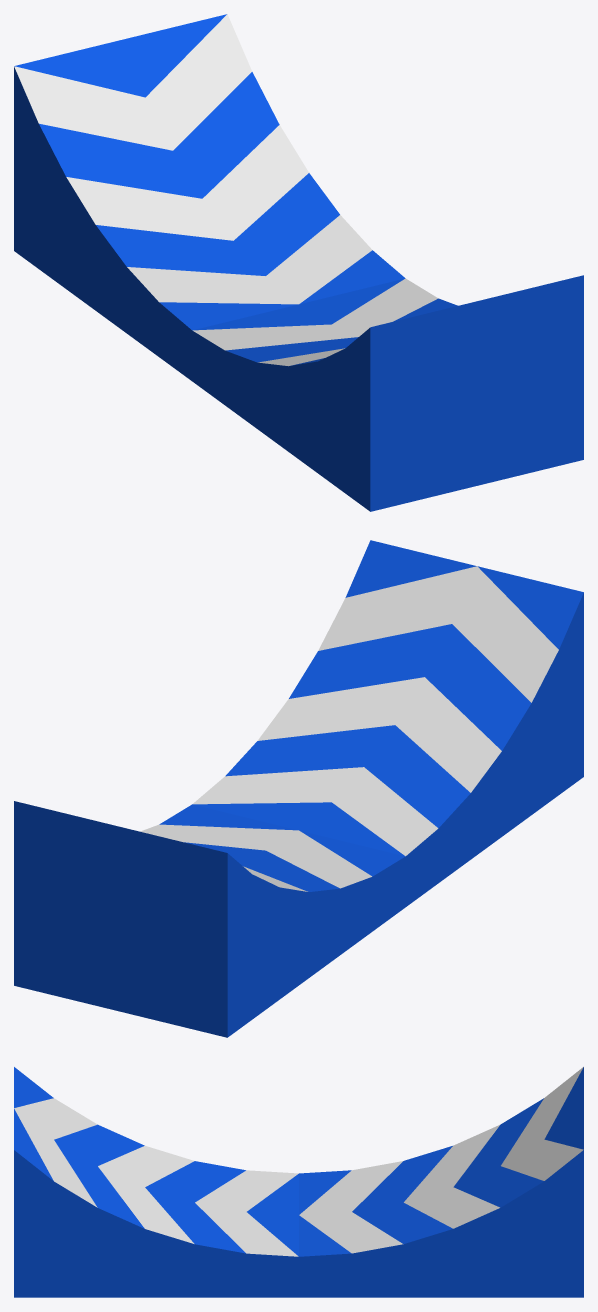
Rendered from Way02_Pont_.fbx.
3 renders of one model, top to bottom at view 1: azimuth 30°, elevation 25°; view 2: azimuth 150°, elevation 25°; view 3: azimuth 270°, elevation 25°, orthographic. The views are drawn at different scales.
Visible parts, largest first — view 1: Way02_Pont_; view 2: Way02_Pont_; view 3: Way02_Pont_.
Part boxes in pixels (x1,y1,x2,y2): Way02_Pont_: (14, 14, 583, 511); Way02_Pont_: (14, 540, 583, 1037); Way02_Pont_: (14, 1067, 583, 1297).
Size of the model in its own units: 4 by 11.57 by 3.31.
